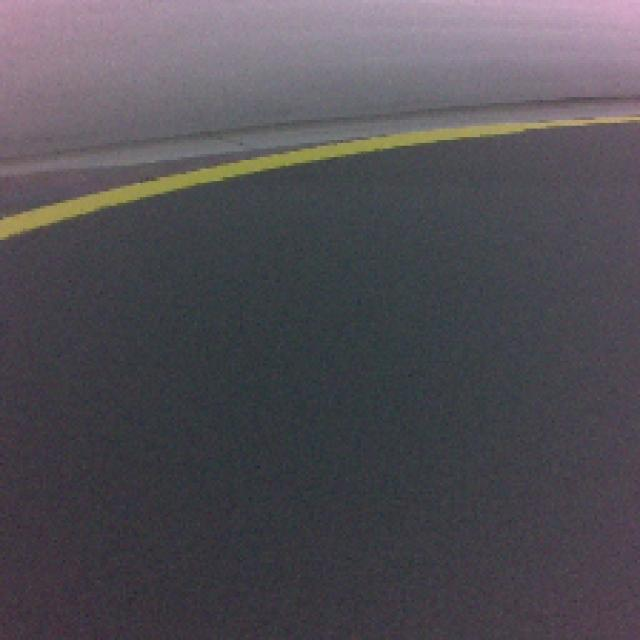Road: (2, 353, 638, 633)
